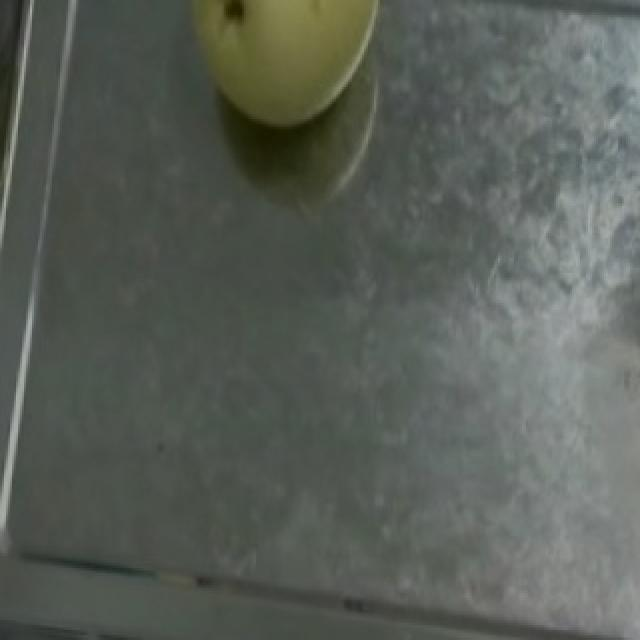Fruit: (160, 0, 402, 141)
